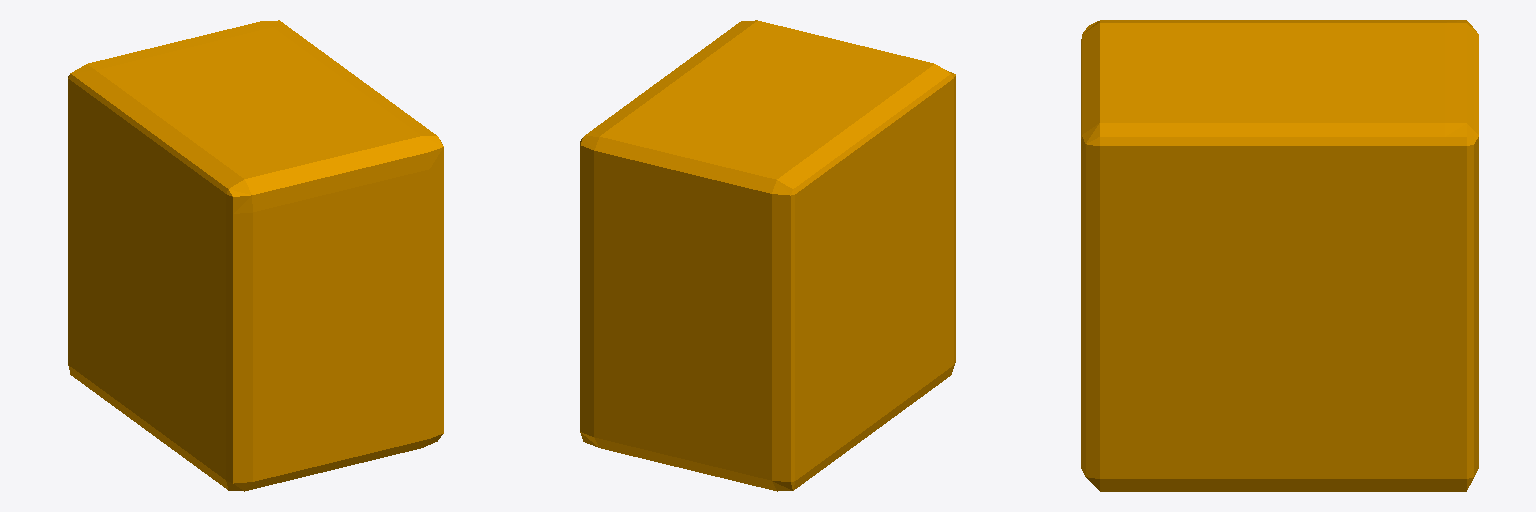
robot.urdf — cylinder_box_49:
<?xml version="1.0" encoding="utf-8"?>  <robot name="cylinder_box_49">   <link name="cylinder_box_49">     <visual>       <geometry>         <mesh filename="../meshes/box/box_49.stl" scale="1 1 1"/>       </geometry>     </visual>     <collision>       <geometry>         <mesh filename="../meshes/box/box_49.stl" scale="1 1 1"/>       </geometry>     </collision>     <inertial>        <origin         xyz="0 0 0"         rpy="0 0 0" />       <mass value="0.5655601411641934"/>       <origin rpy="0 0 0" xyz="0 0 0"/>       <inertia ixx="0.000795585003250882" ixy="-3.910186785737718e-09" ixz="-4.36609492888599e-08" iyy="0.0006077894783919031" iyz="-1.0250354042521313e-08" izz="0.0006039147700897967"/>     </inertial>   </link>  </robot>

--- Facts derived from the render (not from the file) ---
Views: 3 orthographic renders of the robot side by side, from view 1: azimuth 30°, elevation 25°; view 2: azimuth 150°, elevation 25°; view 3: azimuth 270°, elevation 25°.
Model cylinder_box_49 with 1 links and 0 joints (none), rooted at cylinder_box_49, posed every joint at zero.
Visible links, largest first — view 1: cylinder_box_49; view 2: cylinder_box_49; view 3: cylinder_box_49.
Boxes of the visible links, x1,y1,x2,y2 form: cylinder_box_49: (68,20,443,491); cylinder_box_49: (580,20,955,491); cylinder_box_49: (1081,20,1478,491).
Size in the robot's own frame: 0.0669 by 0.0922 by 0.0927 metres.
Meshes: 1 distinct files referenced, 1 mesh visuals loaded (1 binary STL).